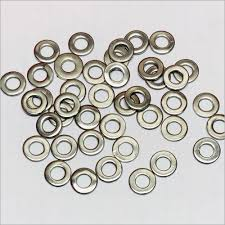No thread: (198, 138, 219, 161), (108, 42, 132, 61), (93, 85, 113, 107), (149, 32, 172, 51), (151, 156, 174, 175), (52, 137, 75, 156), (196, 95, 220, 112), (102, 118, 124, 136), (69, 35, 92, 52), (94, 163, 120, 178), (56, 98, 77, 116), (164, 120, 184, 138), (167, 66, 183, 87), (59, 57, 77, 75), (86, 63, 105, 80), (165, 93, 182, 111), (209, 117, 225, 136), (37, 44, 58, 58), (130, 88, 147, 105), (108, 66, 124, 83), (31, 66, 48, 82), (142, 107, 157, 125)
